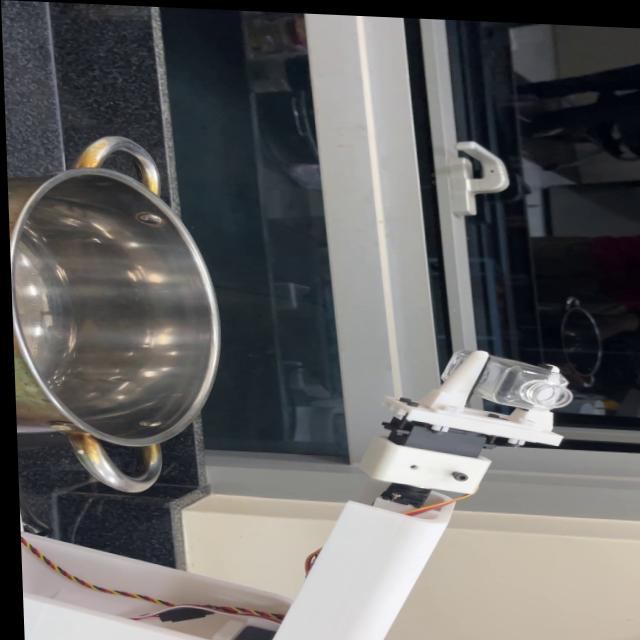cooking_pot: (4, 132, 224, 495)
